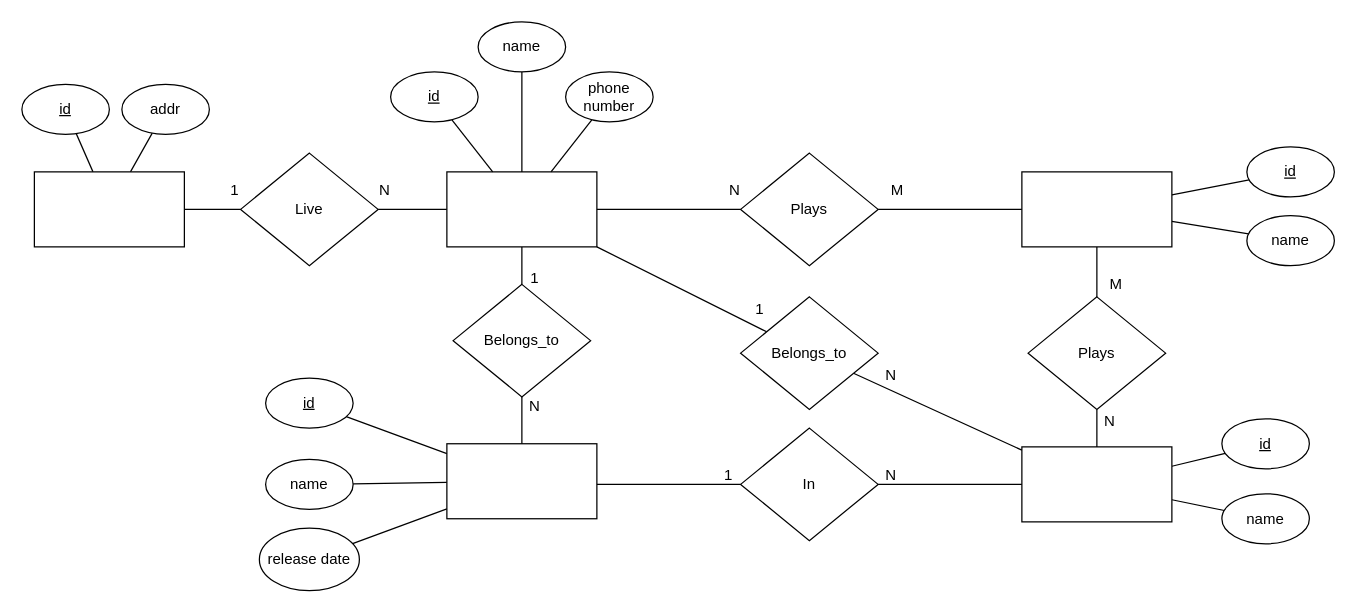
Image size: 1356x613. Some labels were removed from this diagram. Here are the shapes that lost their labels. From the top down, the box of each, then its label:
(33, 171, 184, 247): ADDRESS
(446, 171, 597, 247): ARTIST
(1021, 171, 1172, 247): INSTRUMENT
(446, 442, 597, 519): ALBUM
(1021, 446, 1172, 522): SONG
